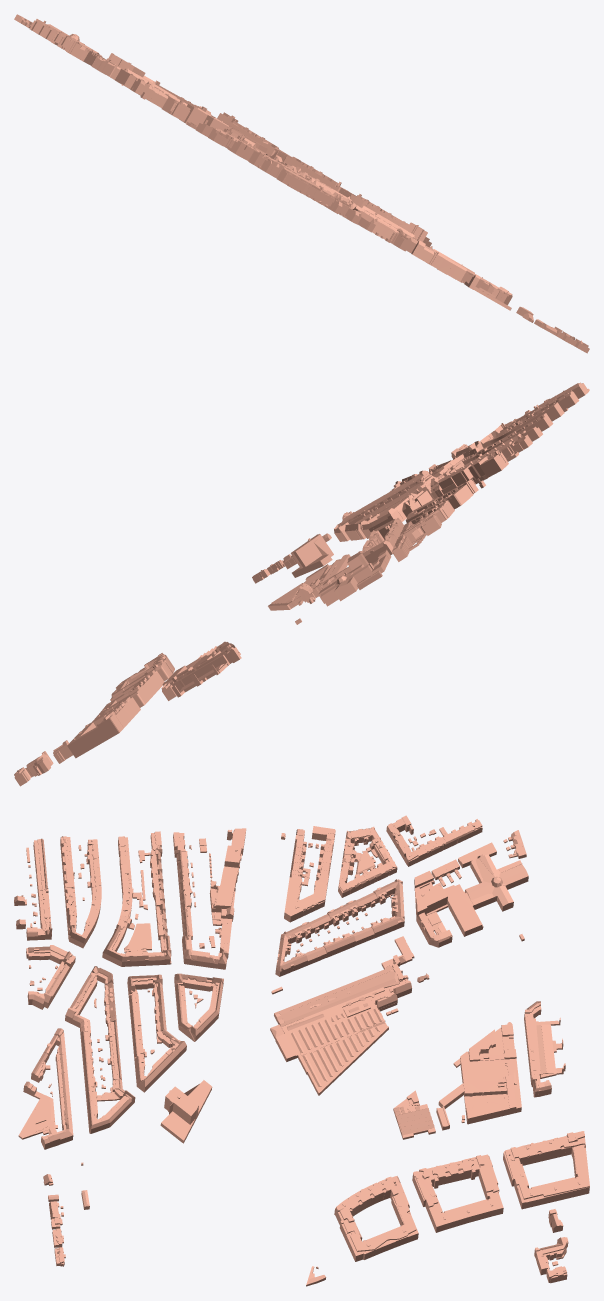
3 renders of one model, top to bottom at view 1: azimuth 30°, elevation 25°; view 2: azimuth 150°, elevation 25°; view 3: azimuth 270°, elevation 25°, orthographic. The views are drawn at different scales.
Bounding box in the file's own units: 1.62e+07 × 1.27e+07 × 2.21e+07.
